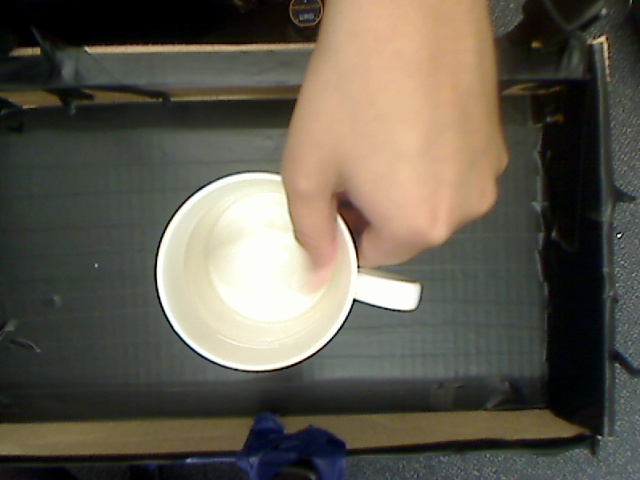mug: (138, 160, 446, 374)
